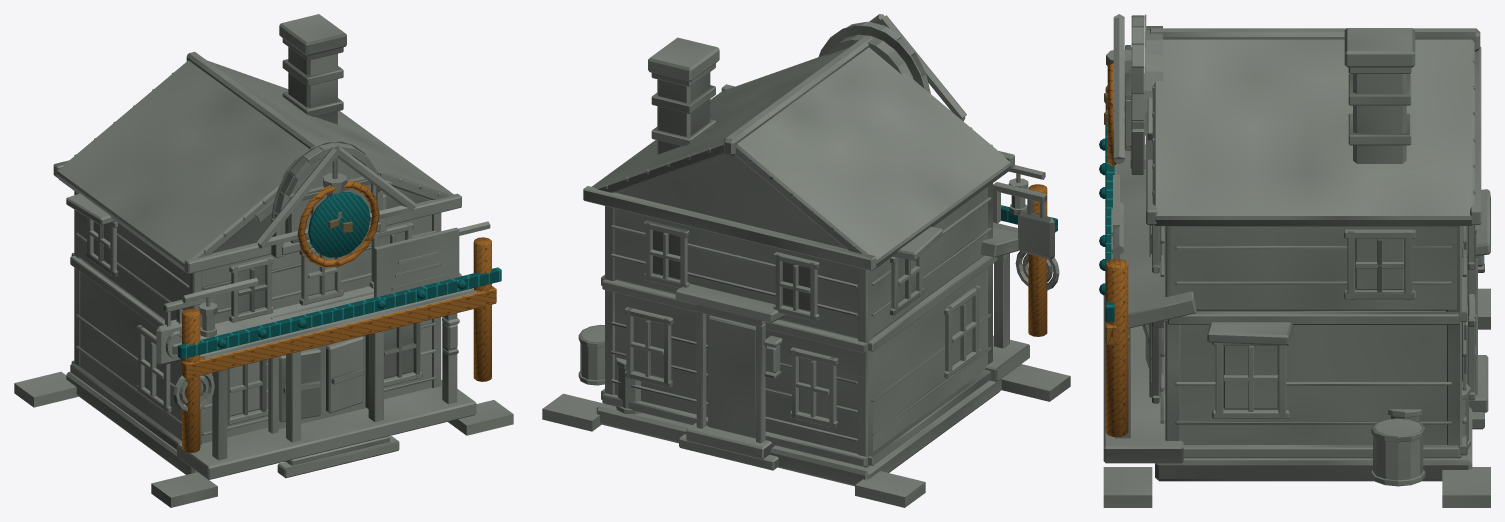
The model's file is tavern.e8.glb.
3 views of the same model, side by side, from view 1: azimuth 30°, elevation 25°; view 2: azimuth 150°, elevation 25°; view 3: azimuth 270°, elevation 25° (orthographic). The views are drawn at different scales.
Parts seen in each view (by area): view 1: TownTavernE8OrbitalCanteen; view 2: TownTavernE8OrbitalCanteen; view 3: TownTavernE8OrbitalCanteen.
Part boxes in pixels (<box>): TownTavernE8OrbitalCanteen: <box>14,14,513,507</box>; TownTavernE8OrbitalCanteen: <box>542,14,1070,507</box>; TownTavernE8OrbitalCanteen: <box>1099,14,1490,507</box>.
Bounding box in the file's own units: 4.23 × 3.96 × 3.39.
1 material, 1 textured.
